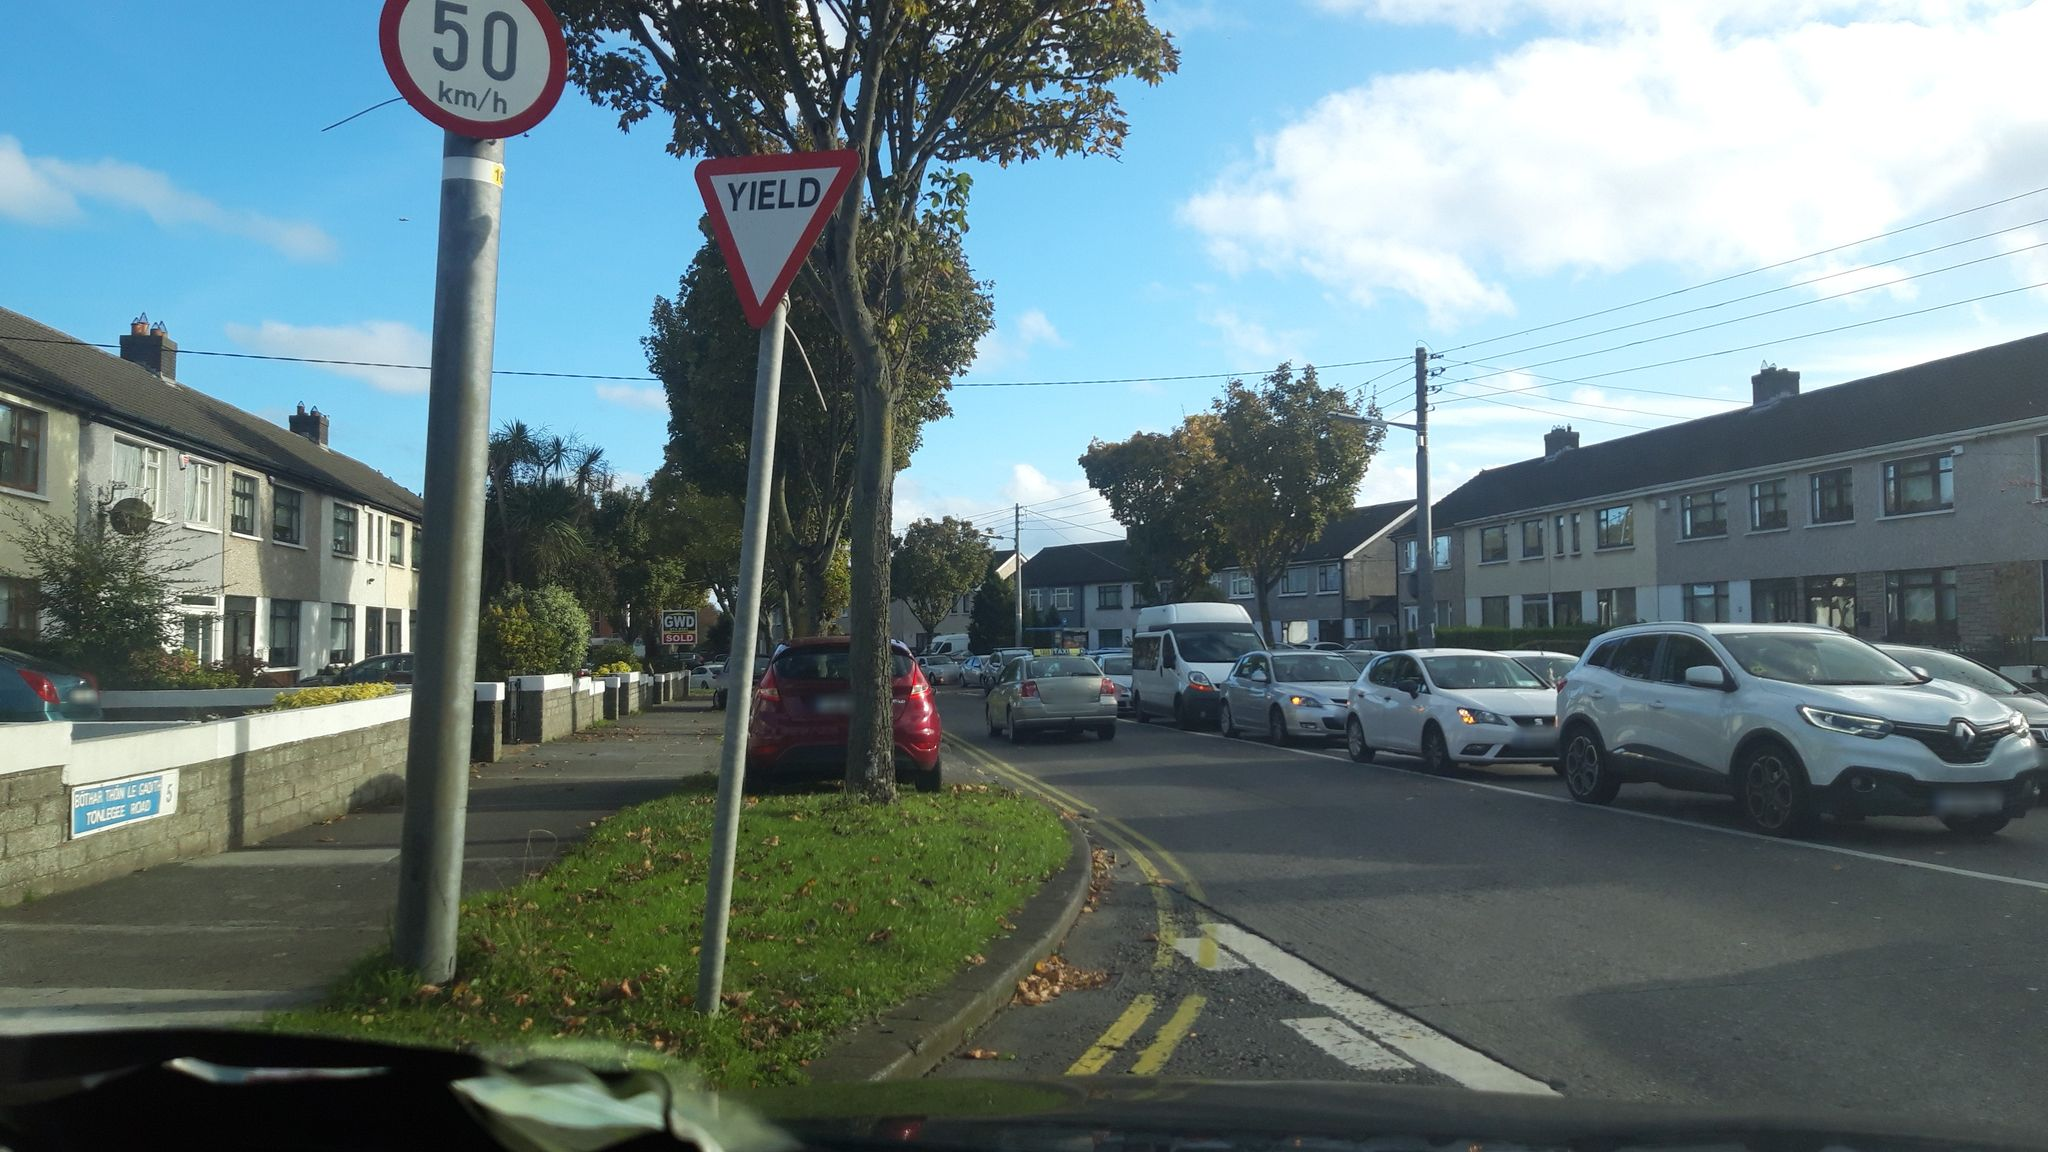property sign: (648, 598, 709, 650)
